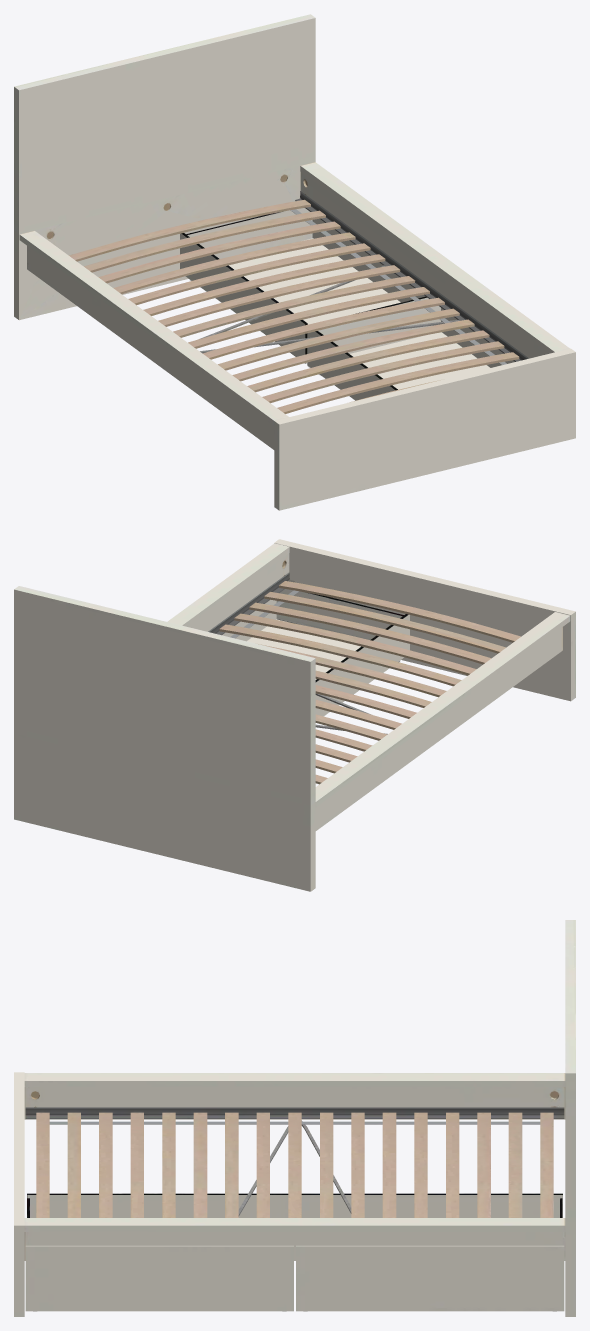
Rendered from 24 - MALM - 高床框附2收納盒, 白色Luröy, 120x200 公分 IKEA 線上購物.glb.
3 renders of one model, top to bottom at view 1: azimuth 30°, elevation 25°; view 2: azimuth 150°, elevation 25°; view 3: azimuth 270°, elevation 25°, orthographic. The views are drawn at different scales.
Parts seen in each view (by area): view 1: Mesh_0.001; view 2: Mesh_0.001; view 3: Mesh_0.001.
Boxes of the visible parts, x1,y1,x2,y2 form: Mesh_0.001: (14, 14, 575, 510); Mesh_0.001: (14, 539, 575, 891); Mesh_0.001: (14, 920, 575, 1316).
Bounding box in the file's own units: 1.35 × 0.9995 × 2.09.
2 materials, 2 textured.
